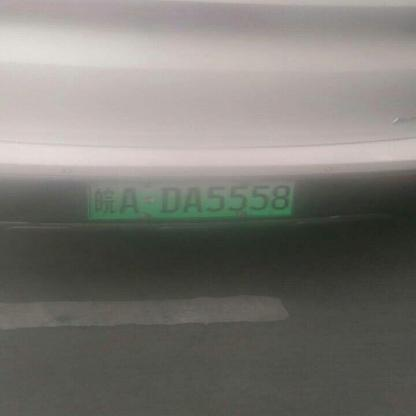lp: (86, 180, 294, 220)
